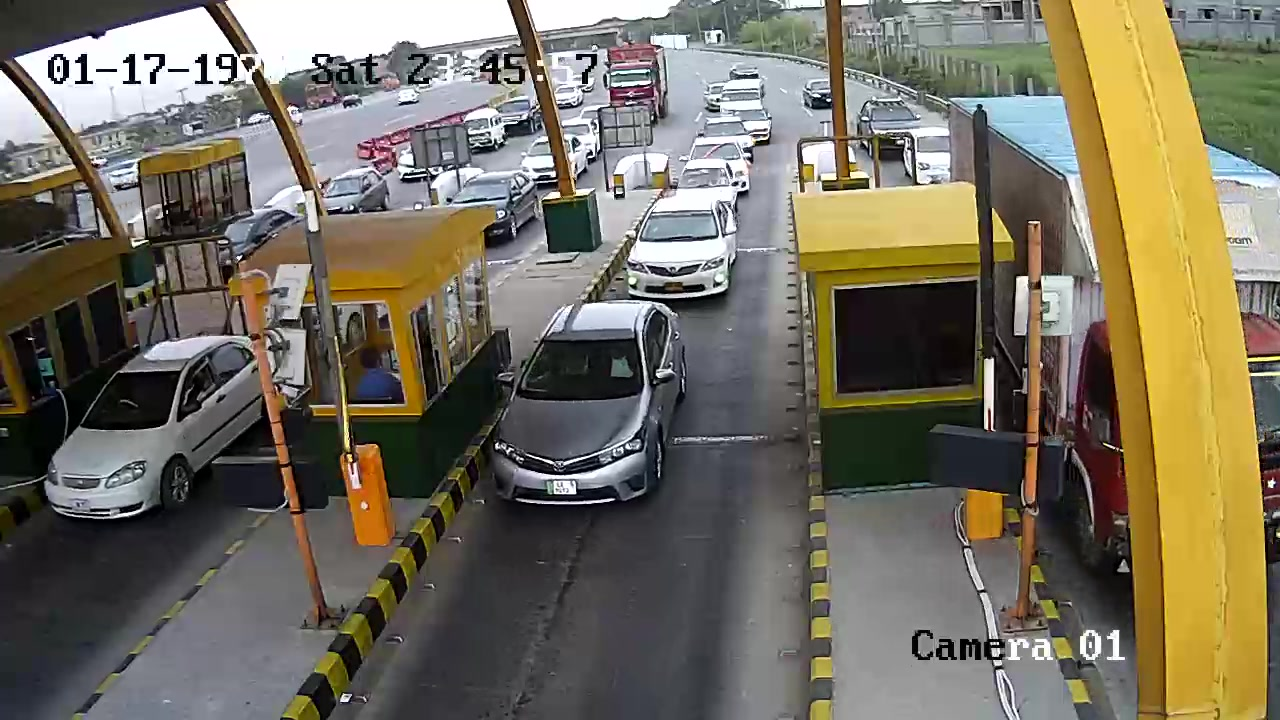F1: (483, 299, 711, 513)
